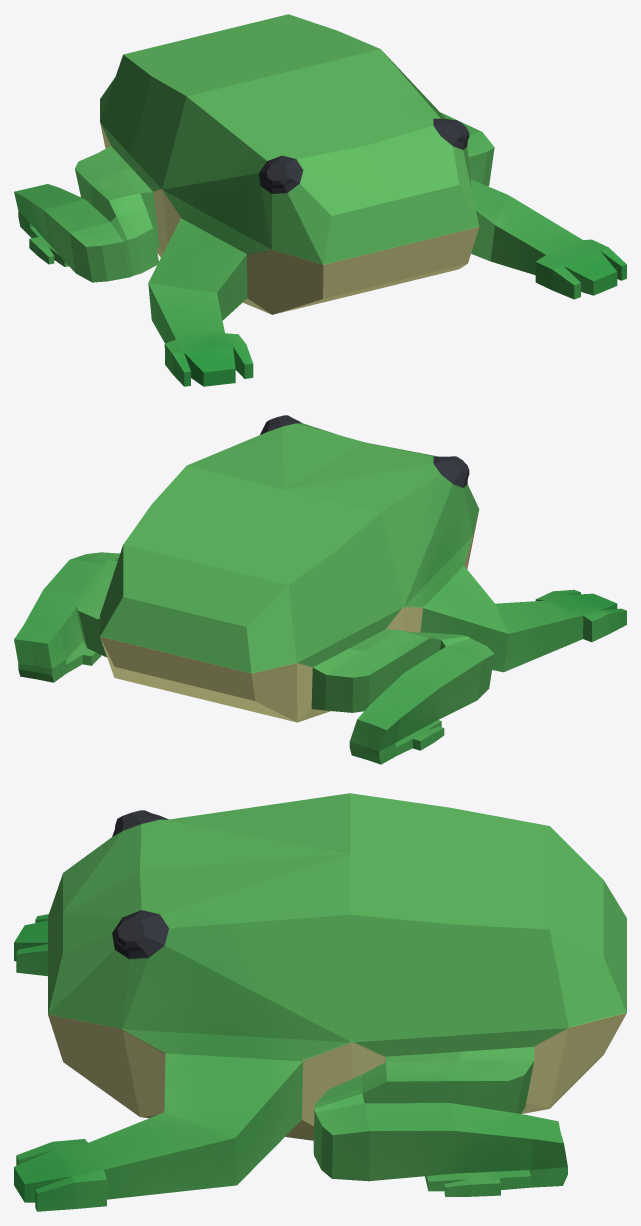
The model's file is frog.fbx.
3 views of the same model, one above another, from view 1: azimuth 30°, elevation 25°; view 2: azimuth 150°, elevation 25°; view 3: azimuth 270°, elevation 25° (orthographic). The views are drawn at different scales.
Parts seen in each view (by area): view 1: frog; view 2: frog; view 3: frog.
Part boxes in pixels (x1,y1,x2,y2): frog: (14,14,626,386); frog: (14,415,626,764); frog: (14,793,626,1211).
Size of the model in its own units: 1.81 by 0.6758 by 1.7.
